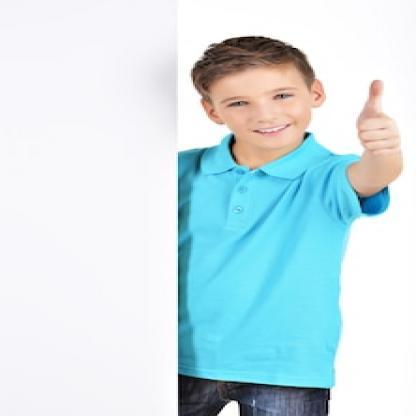thumb_up: (342, 78, 407, 164)
